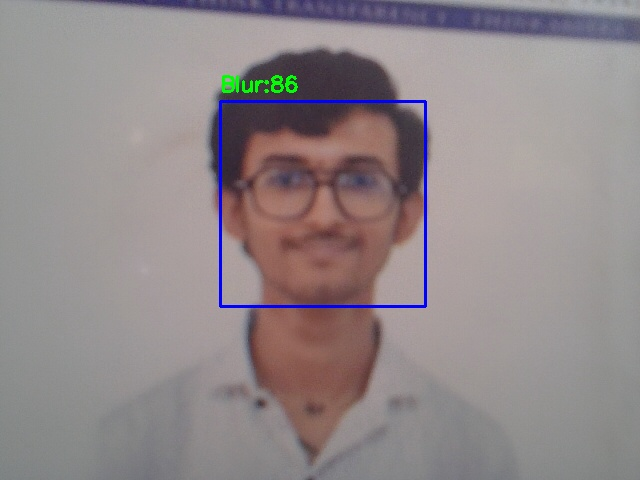fake: (220, 101, 425, 306)
